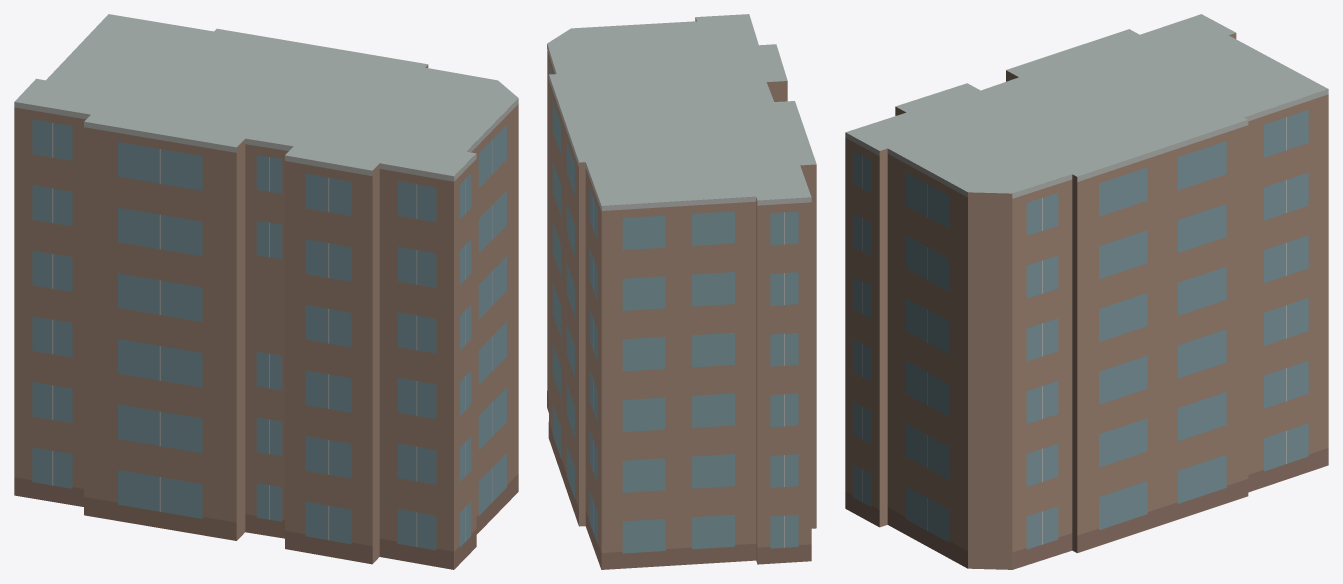
File: survey-upis-32725023.glb
3 renders of one model, left to right at view 1: azimuth 30°, elevation 25°; view 2: azimuth 150°, elevation 25°; view 3: azimuth 270°, elevation 25°, orthographic. The views are drawn at different scales.
Parts seen in each view (by area): view 1: survey-upis-32725023.tmp; view 2: survey-upis-32725023.tmp; view 3: survey-upis-32725023.tmp.
Part boxes in pixels (x1,y1,x2,y2): survey-upis-32725023.tmp: (14, 14, 518, 569); survey-upis-32725023.tmp: (547, 14, 816, 569); survey-upis-32725023.tmp: (845, 14, 1328, 569).
Size of the model in its own units: 17.81 by 17.4 by 20.25.
